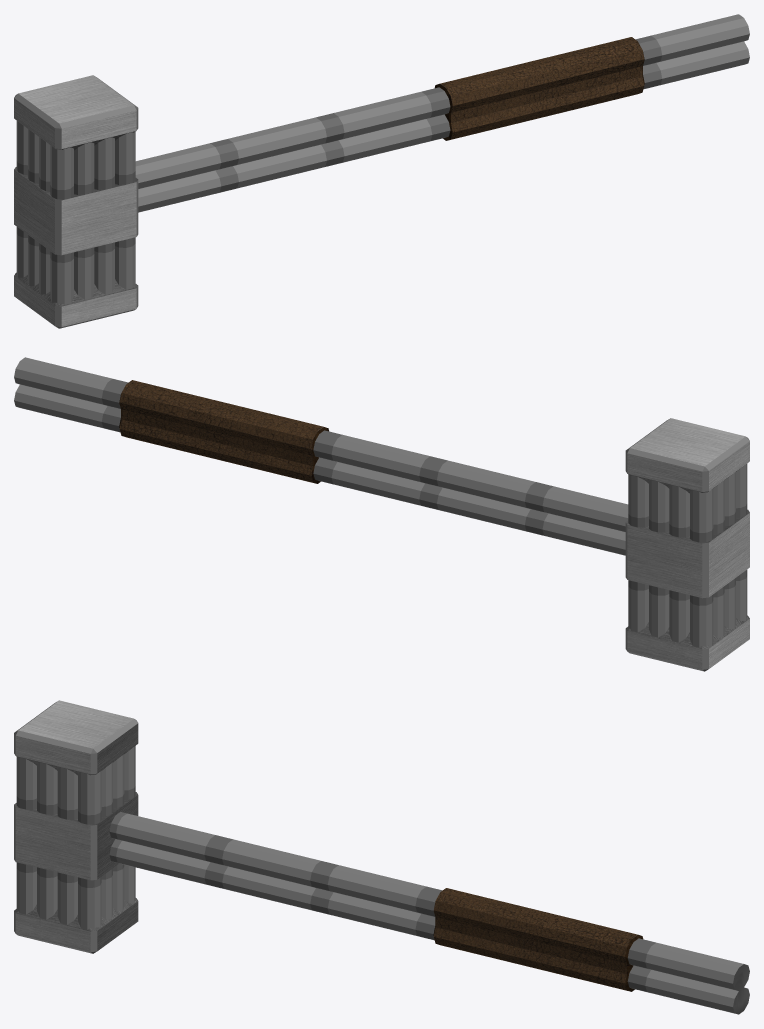
The model's file is RebarHammer.fbx.
3 views of the same model, one above another, from view 1: azimuth 30°, elevation 25°; view 2: azimuth 150°, elevation 25°; view 3: azimuth 330°, elevation 25° (orthographic).
Parts seen in each view (by area): view 1: ZomboidRebarHammer; view 2: ZomboidRebarHammer; view 3: ZomboidRebarHammer.
Part boxes in pixels (x1=…): ZomboidRebarHammer: x1=14, y1=14, x2=749, y2=328; ZomboidRebarHammer: x1=14, y1=357, x2=749, y2=671; ZomboidRebarHammer: x1=14, y1=700, x2=749, y2=1014.
Size of the model in its own units: 0.7008 by 0.1944 by 0.0788.
